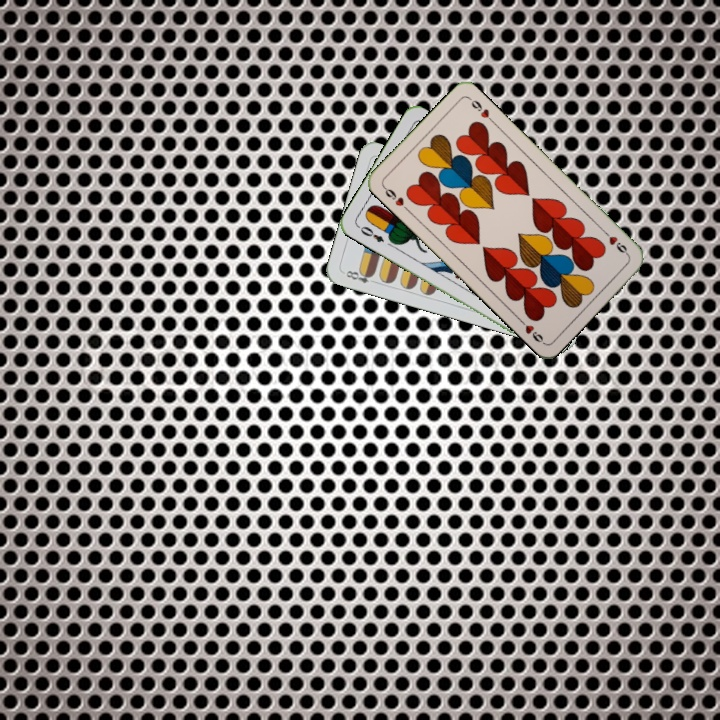E8: (342, 266, 379, 286)
EO: (353, 221, 387, 245)
H9: (379, 182, 411, 214), (599, 226, 631, 258)
